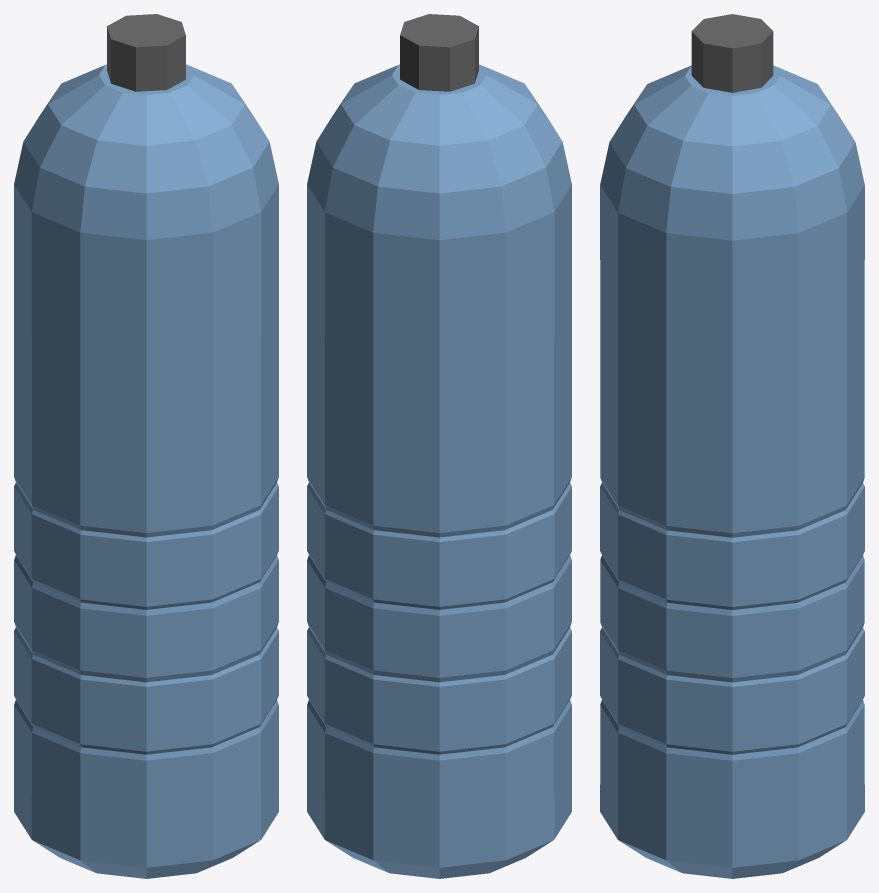
File: waterbottle_2.glb
The picture shows the model from 3 angles, left to right: view 1: azimuth 30°, elevation 25°; view 2: azimuth 150°, elevation 25°; view 3: azimuth 270°, elevation 25°; orthographic projection.
Parts seen in each view (by area): view 1: WaterBottle_2; view 2: WaterBottle_2; view 3: WaterBottle_2.
Boxes of the visible parts, x1,y1,x2,y2 form: WaterBottle_2: (14,14,278,878); WaterBottle_2: (307,14,571,878); WaterBottle_2: (600,14,864,878).
Bounding box in the file's own units: 0.5511 × 1.85 × 0.5511.
